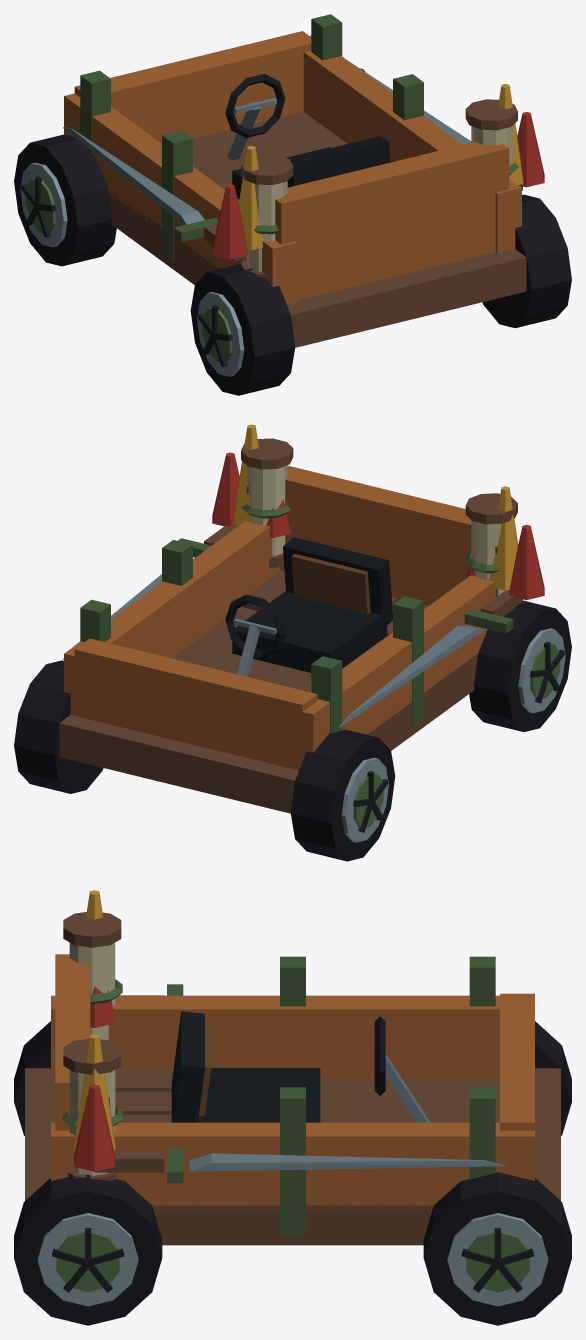
The model's file is kart.glb.
3 renders of one model, top to bottom at view 1: azimuth 30°, elevation 25°; view 2: azimuth 150°, elevation 25°; view 3: azimuth 270°, elevation 25°, orthographic. The views are drawn at different scales.
Visible parts, largest first — view 1: identity-wagon-wagon-timber-coach, wheel-rear-left, wheel-front-left, wheel-rear-right, identity-wagon-driver-cockpit, identity-wagon-motif-fire, identity-wagon-motif-scrolls, identity-wagon-motif-swords; view 2: identity-wagon-wagon-timber-coach, identity-wagon-driver-cockpit, wheel-front-left, wheel-rear-left, identity-wagon-motif-scrolls, identity-wagon-motif-fire, wheel-front-right, identity-wagon-motif-swords; view 3: identity-wagon-wagon-timber-coach, wheel-front-right, wheel-rear-right, identity-wagon-driver-cockpit, identity-wagon-motif-scrolls, identity-wagon-motif-swords, identity-wagon-motif-fire, wheel-front-left, wheel-rear-left.
Part boxes in pixels (x1,y1,x2,y2): identity-wagon-wagon-timber-coach: [64, 14, 526, 347]; wheel-rear-left: [190, 264, 295, 395]; wheel-front-left: [14, 134, 116, 266]; wheel-rear-right: [482, 194, 571, 328]; identity-wagon-driver-cockpit: [225, 73, 390, 199]; identity-wagon-motif-fire: [212, 84, 544, 259]; identity-wagon-motif-scrolls: [241, 99, 518, 277]; identity-wagon-motif-swords: [63, 62, 522, 260]; identity-wagon-wagon-timber-coach: [59, 465, 497, 813]; identity-wagon-driver-cockpit: [225, 537, 392, 676]; wheel-front-left: [290, 729, 395, 861]; wheel-rear-left: [469, 600, 571, 731]; identity-wagon-motif-scrolls: [241, 438, 517, 616]; identity-wagon-motif-fire: [212, 424, 544, 600]; wheel-front-right: [14, 660, 103, 793]; identity-wagon-motif-swords: [63, 525, 522, 727]; identity-wagon-wagon-timber-coach: [25, 954, 560, 1245]; wheel-front-right: [423, 1172, 571, 1325]; wheel-rear-right: [14, 1174, 162, 1325]; identity-wagon-driver-cockpit: [171, 1011, 430, 1122]; identity-wagon-motif-scrolls: [62, 912, 122, 1180]; identity-wagon-motif-swords: [94, 984, 505, 1183]; identity-wagon-motif-fire: [74, 890, 115, 1171]; wheel-front-left: [535, 1021, 571, 1135]; wheel-rear-left: [14, 1021, 50, 1135].
Bounding box in the file's own units: 2.07 × 1.38 × 2.56.
